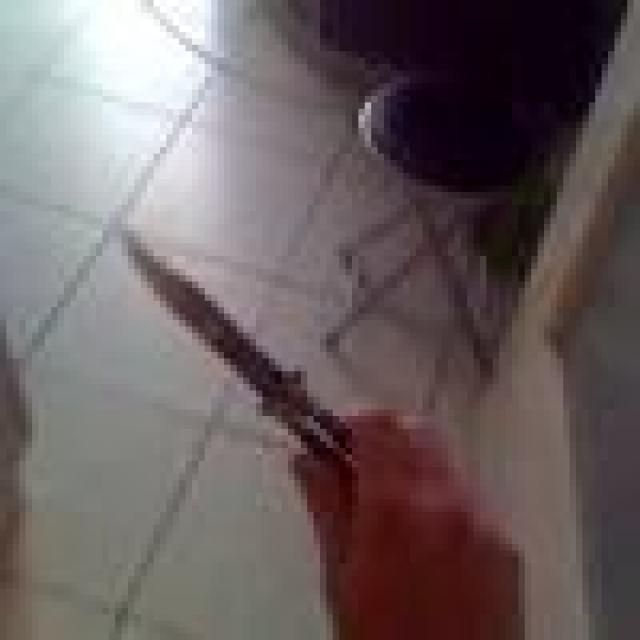Knife: (102, 211, 397, 480)
